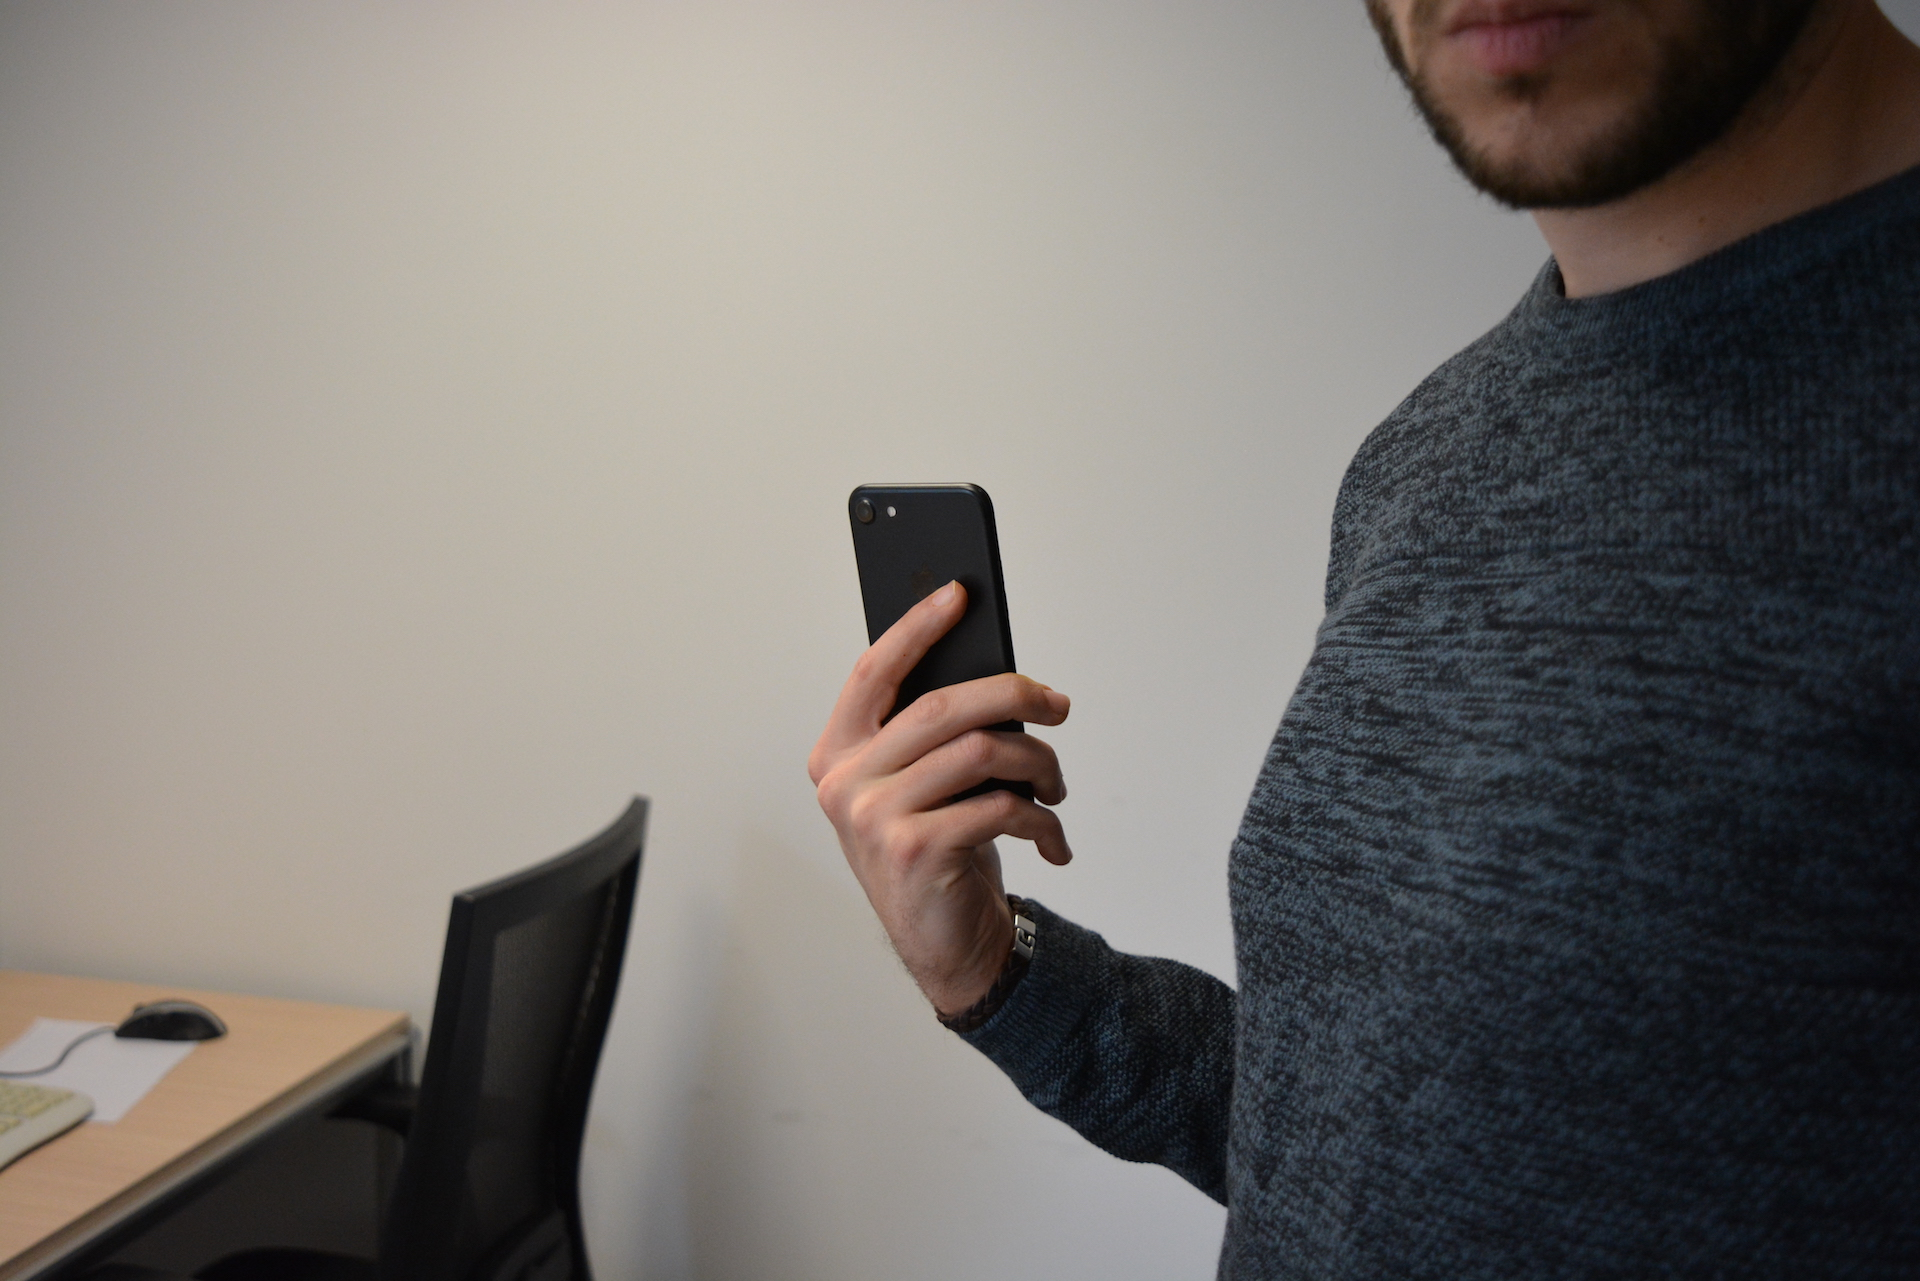smartphone: (846, 480, 1038, 809)
